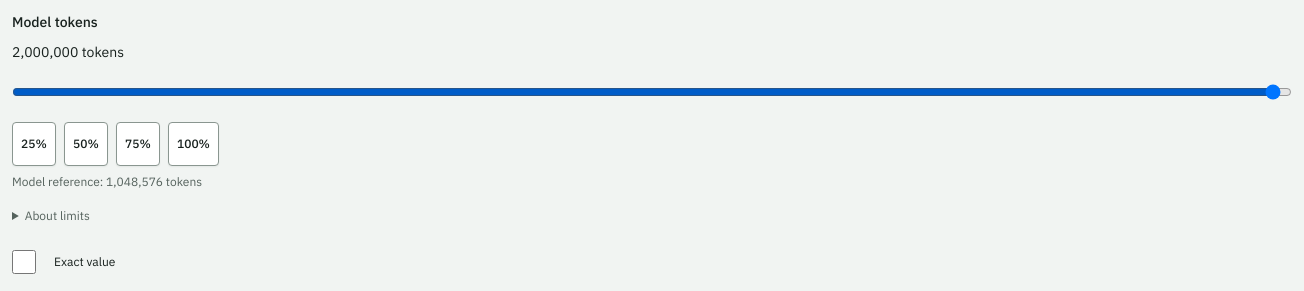
Scenario: a known model keeps its expanded slider range while presets use its reference
Click the button "25%": (34, 144) [12,122,56,166]
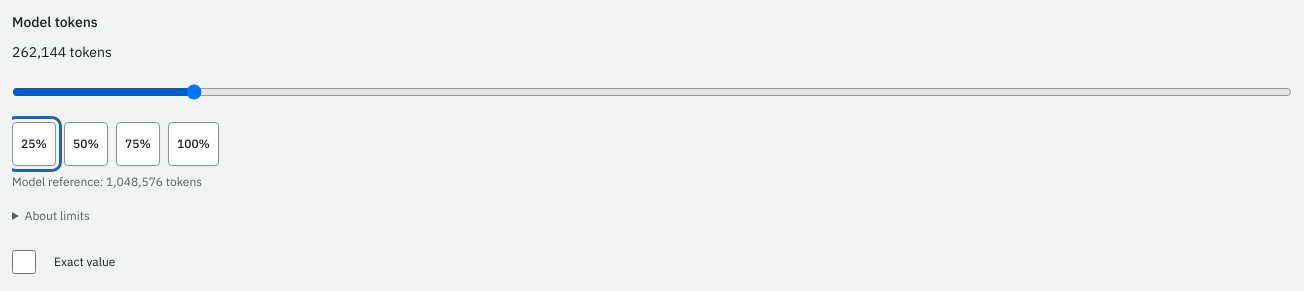
Result: the slider holds "262144" at [12,70,1292,114]
